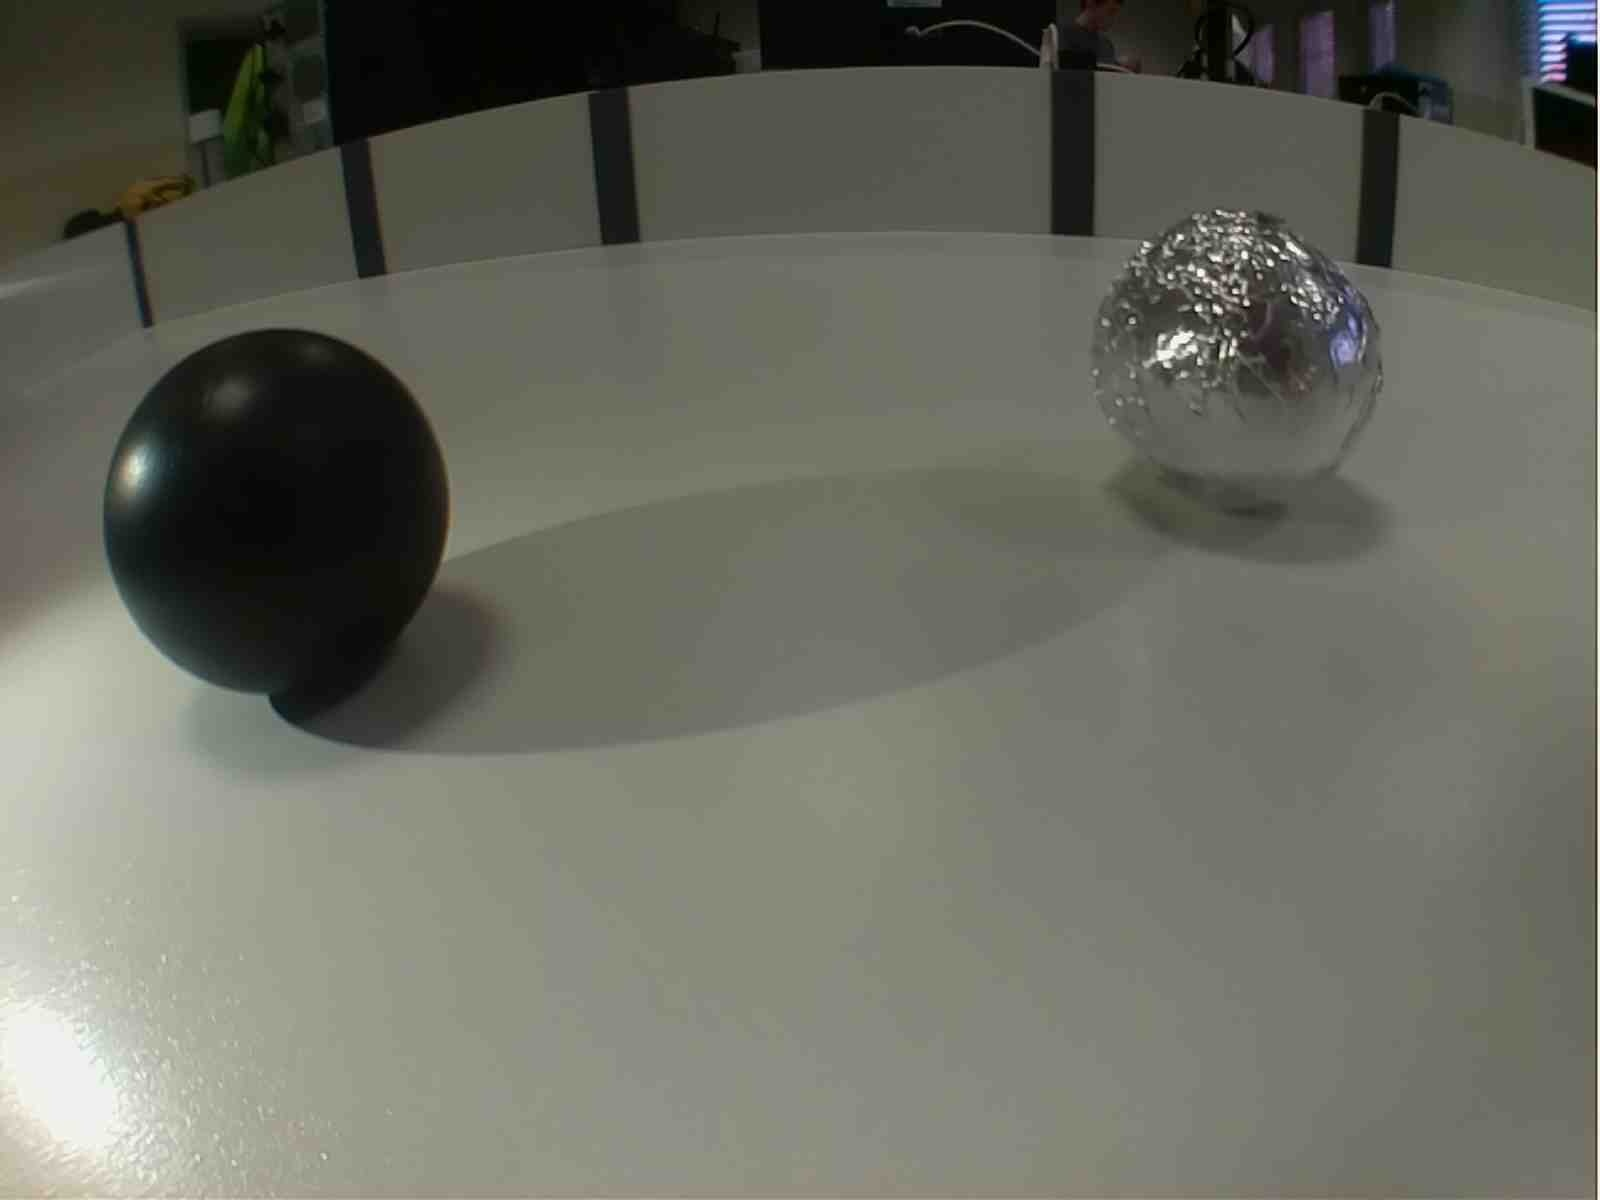bianca: (1083, 203, 1387, 513)
nera: (92, 320, 461, 708)
